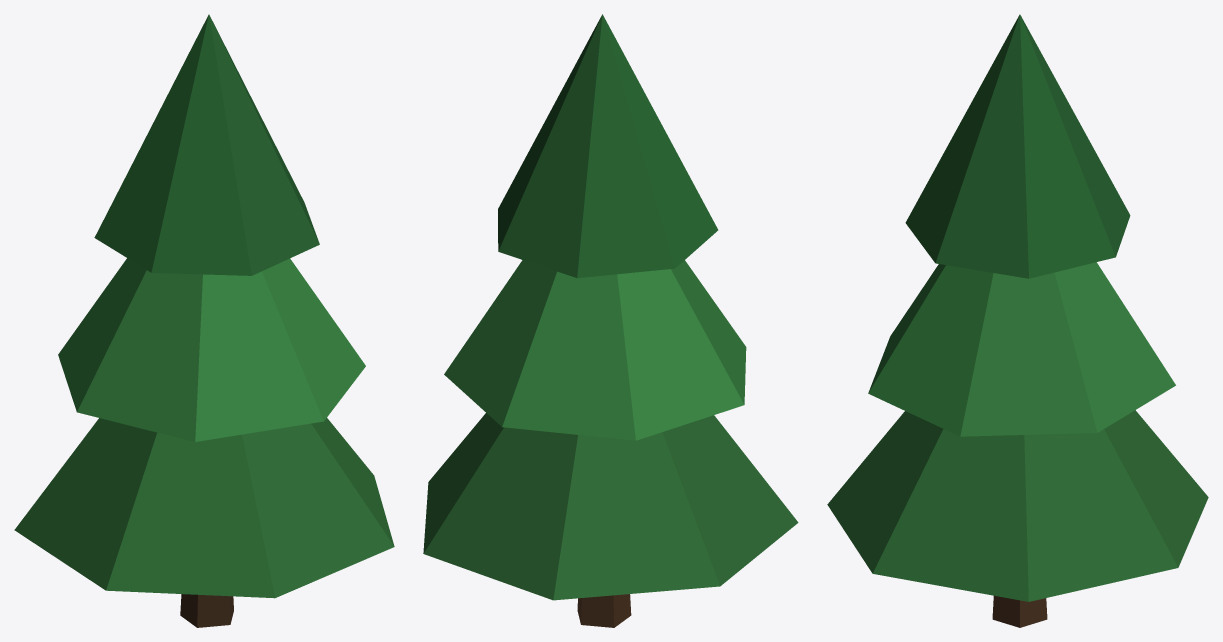
The model's file is TreeConifer_B.fbx.
The picture shows the model from 3 angles, left to right: view 1: azimuth 30°, elevation 25°; view 2: azimuth 150°, elevation 25°; view 3: azimuth 270°, elevation 25°; orthographic projection.
Parts seen in each view (by area): view 1: TreeConifer_B; view 2: TreeConifer_B; view 3: TreeConifer_B.
Boxes of the visible parts, box(x1,y1,x2,y2) form: TreeConifer_B: box(14, 14, 394, 627); TreeConifer_B: box(423, 14, 798, 627); TreeConifer_B: box(827, 14, 1208, 627).
Size of the model in its own units: 2471 by 4368 by 2509.
